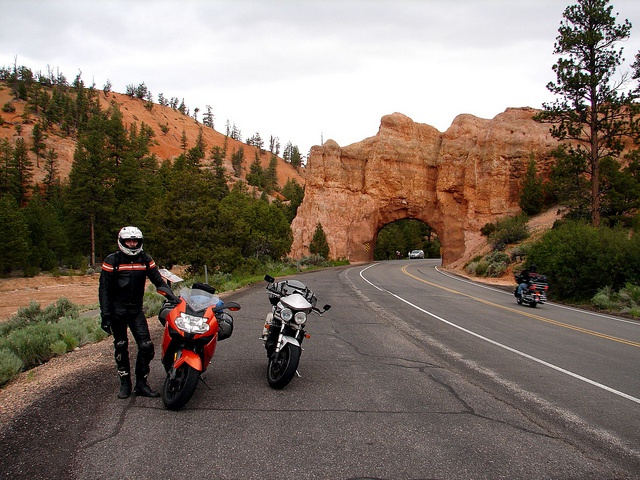non-vehicle: (155, 285, 241, 409), (255, 272, 334, 388), (516, 275, 549, 307)
